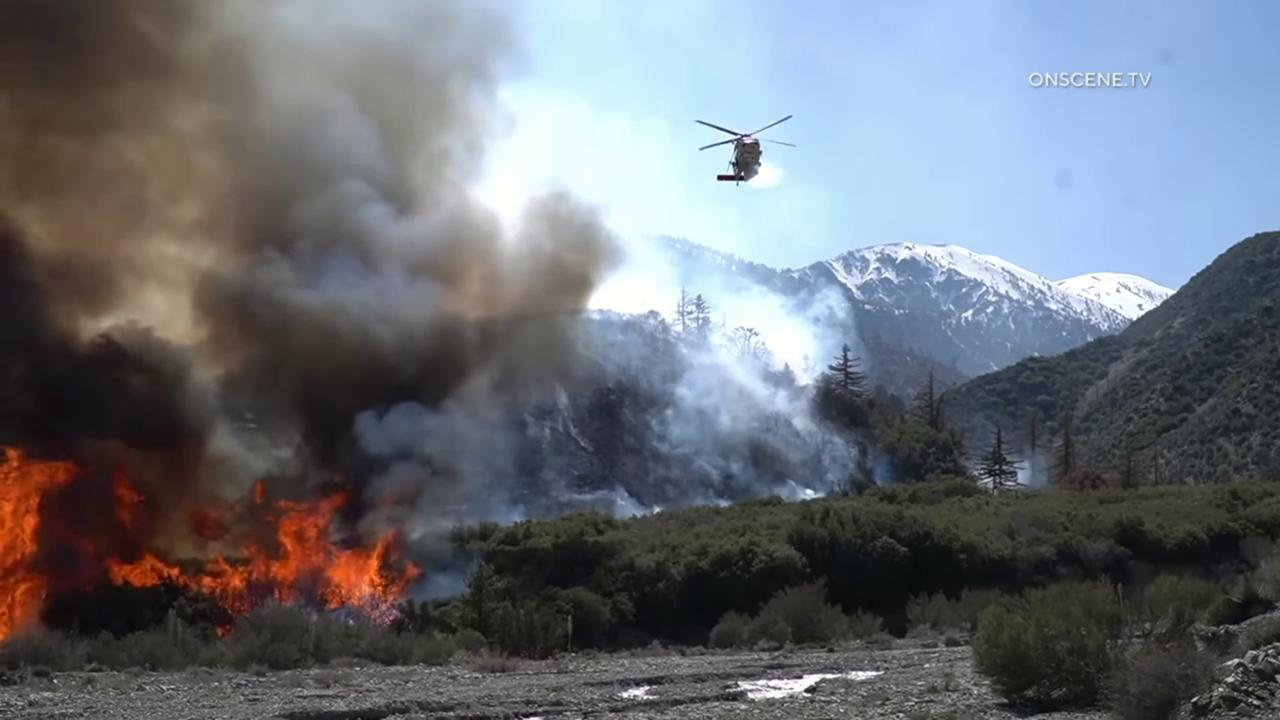fire: (106, 470, 424, 627), (0, 443, 82, 654), (213, 628, 231, 638)
smoke: (0, 0, 870, 607), (968, 445, 1050, 494)
